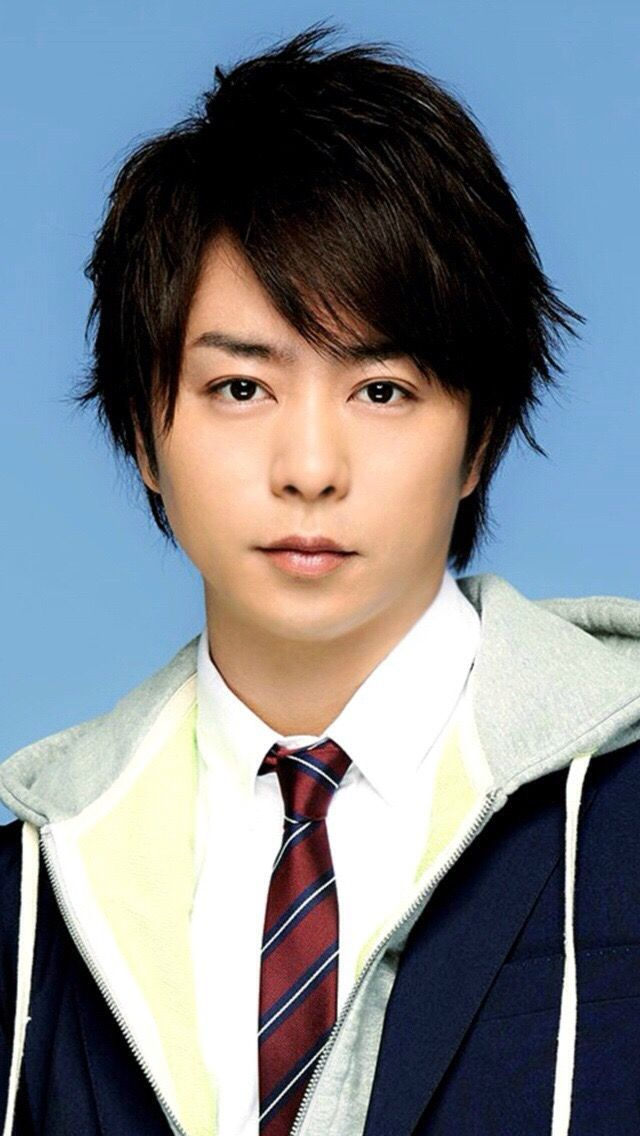unmask: (156, 263, 471, 629)
